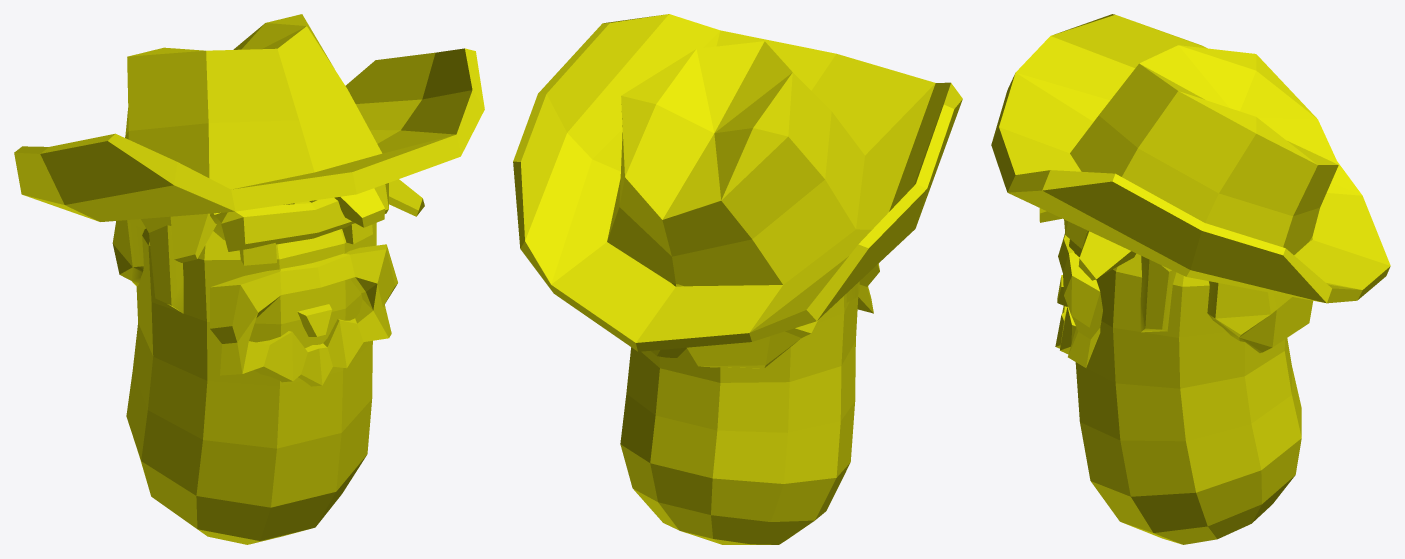
Rendered from SM_Bean_Cowboy_01.glb.
3 views of the same model, side by side, from view 1: azimuth 30°, elevation 25°; view 2: azimuth 150°, elevation 25°; view 3: azimuth 270°, elevation 25° (orthographic). The views are drawn at different scales.
Visible parts, largest first — view 1: SM_Bean_Cowboy_01; view 2: SM_Bean_Cowboy_01; view 3: SM_Bean_Cowboy_01.
Part boxes in pixels (<box>): SM_Bean_Cowboy_01: <box>14,14,484,544</box>; SM_Bean_Cowboy_01: <box>513,14,962,544</box>; SM_Bean_Cowboy_01: <box>991,14,1390,544</box>.
Size of the model in its own units: 1.73 by 2.03 by 1.58.
Materials: 1 (1 with a texture image).
